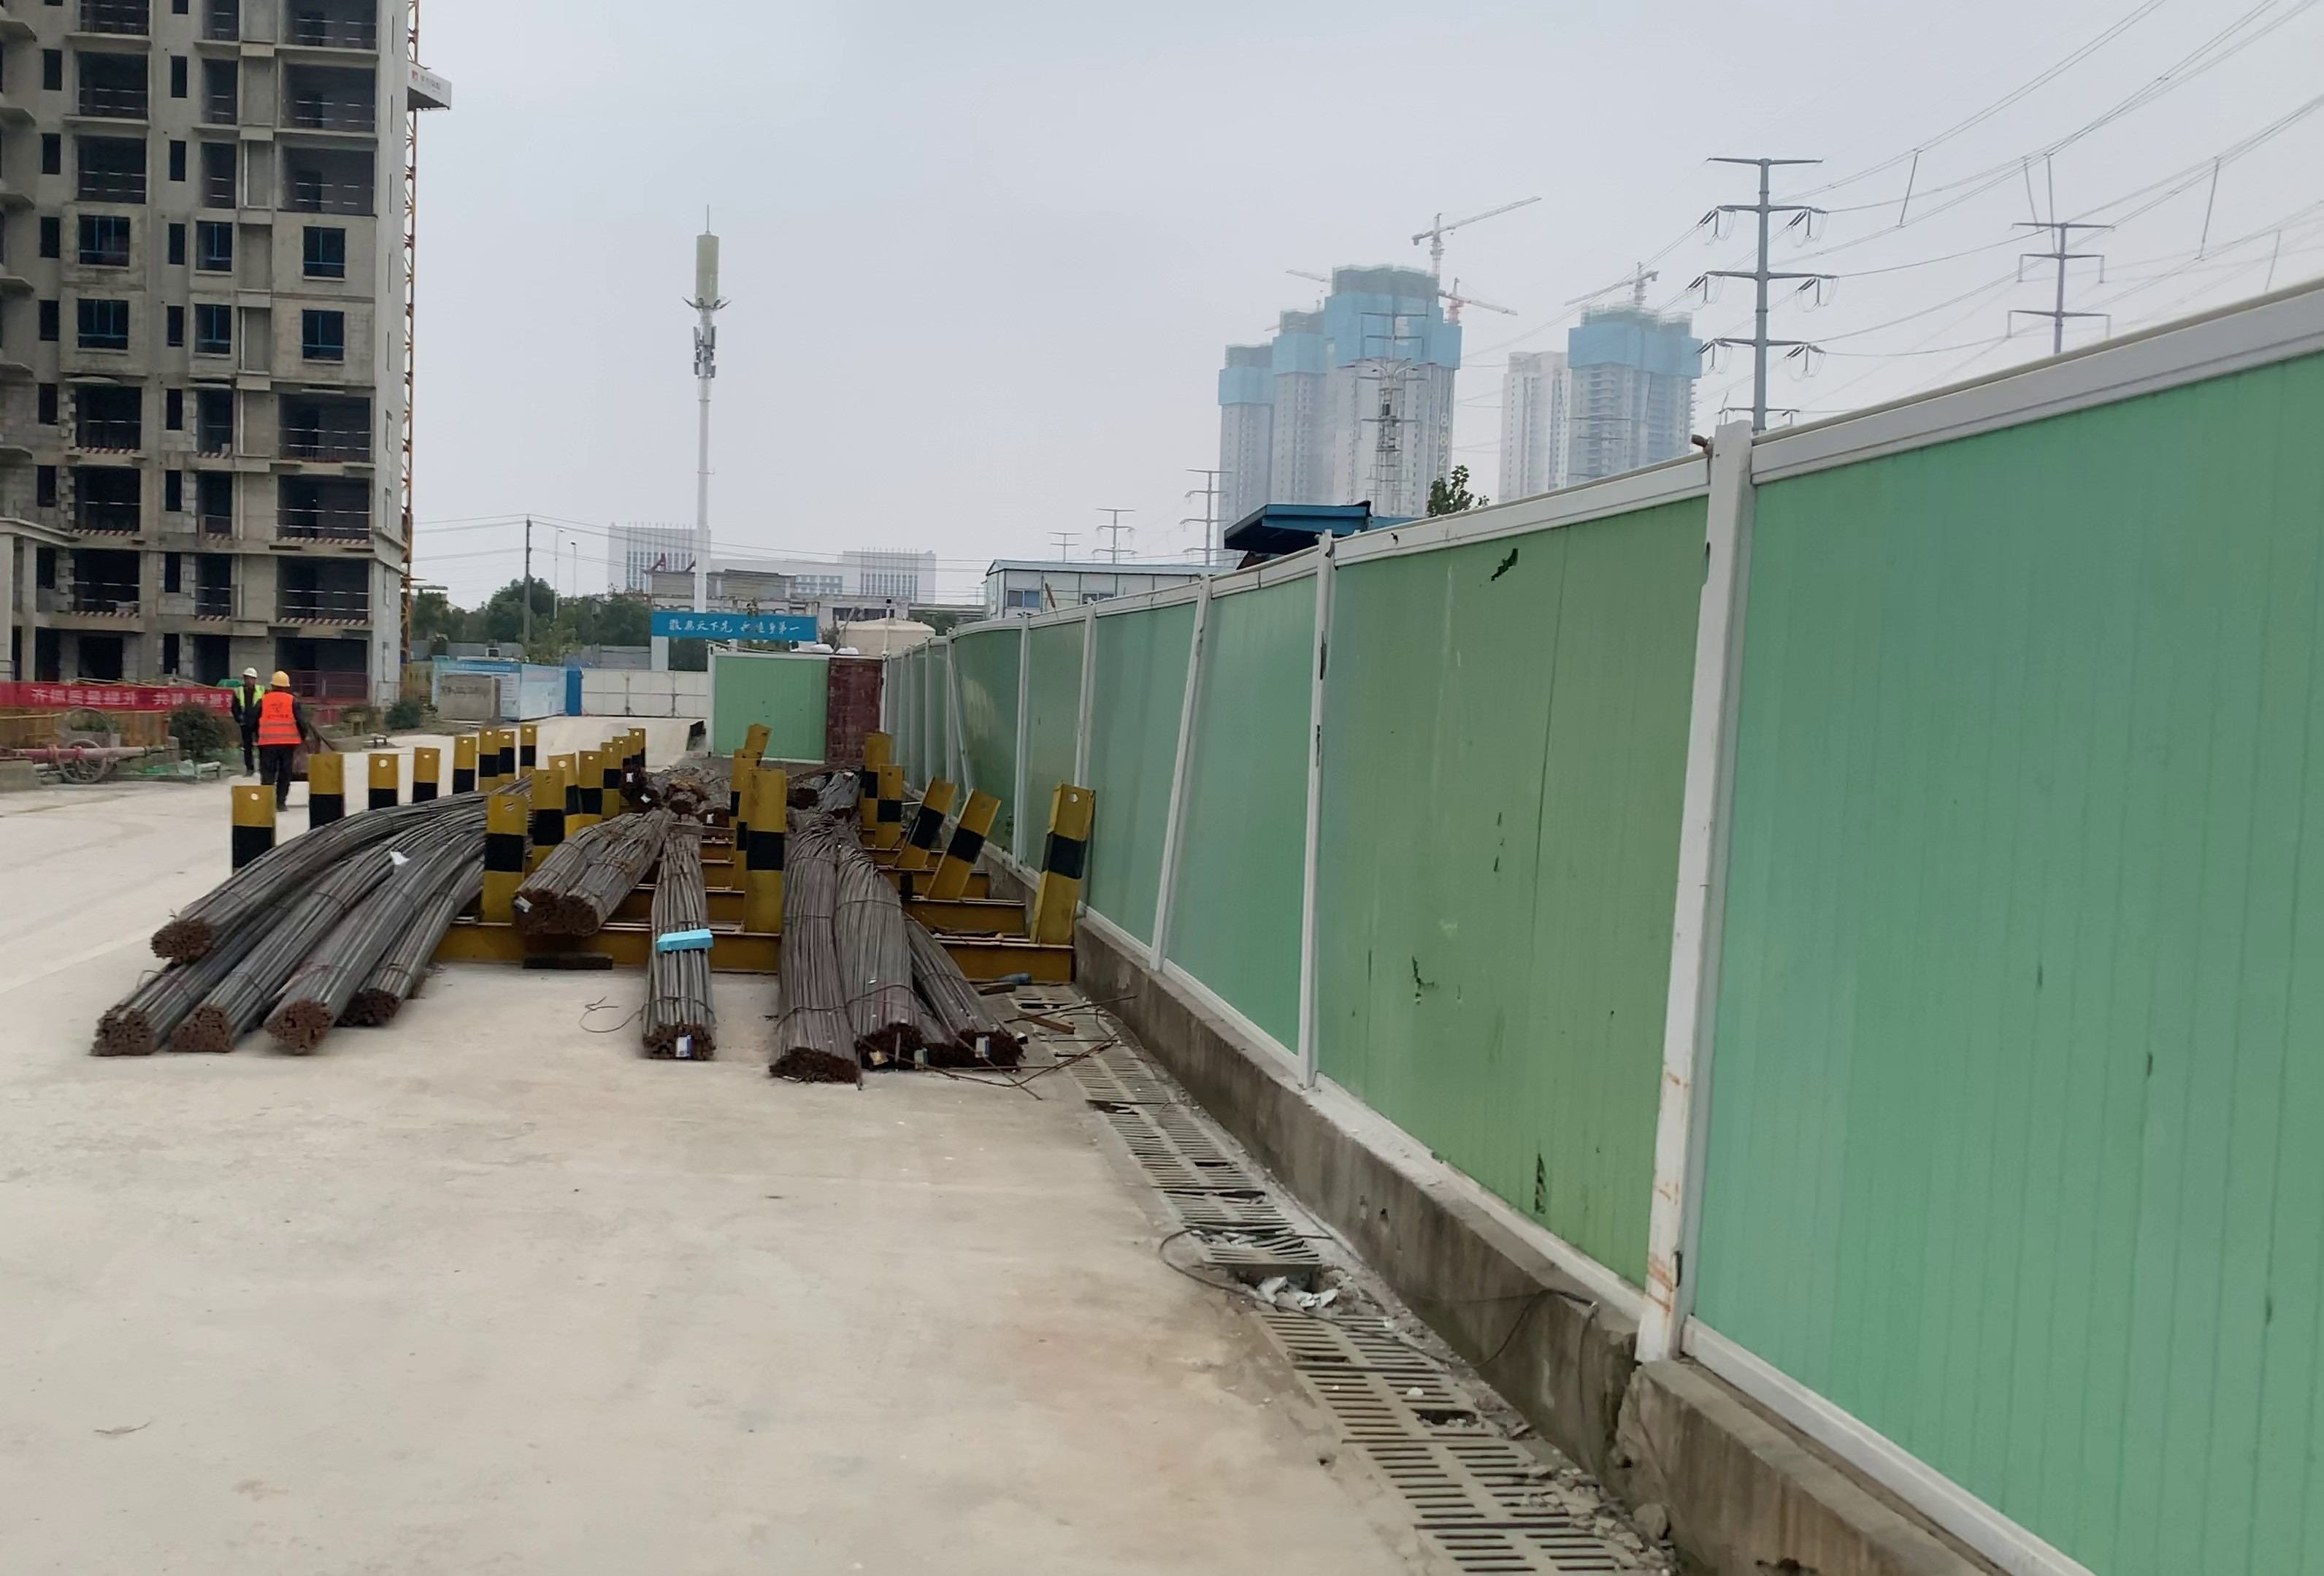rebar: (766, 1043, 861, 1091), (921, 1027, 1023, 1071), (271, 997, 339, 1055), (638, 1008, 712, 1059), (171, 1004, 239, 1054), (91, 999, 151, 1052), (860, 1011, 918, 1064), (156, 916, 216, 962), (512, 883, 559, 939), (561, 892, 603, 939), (353, 980, 394, 1020)
